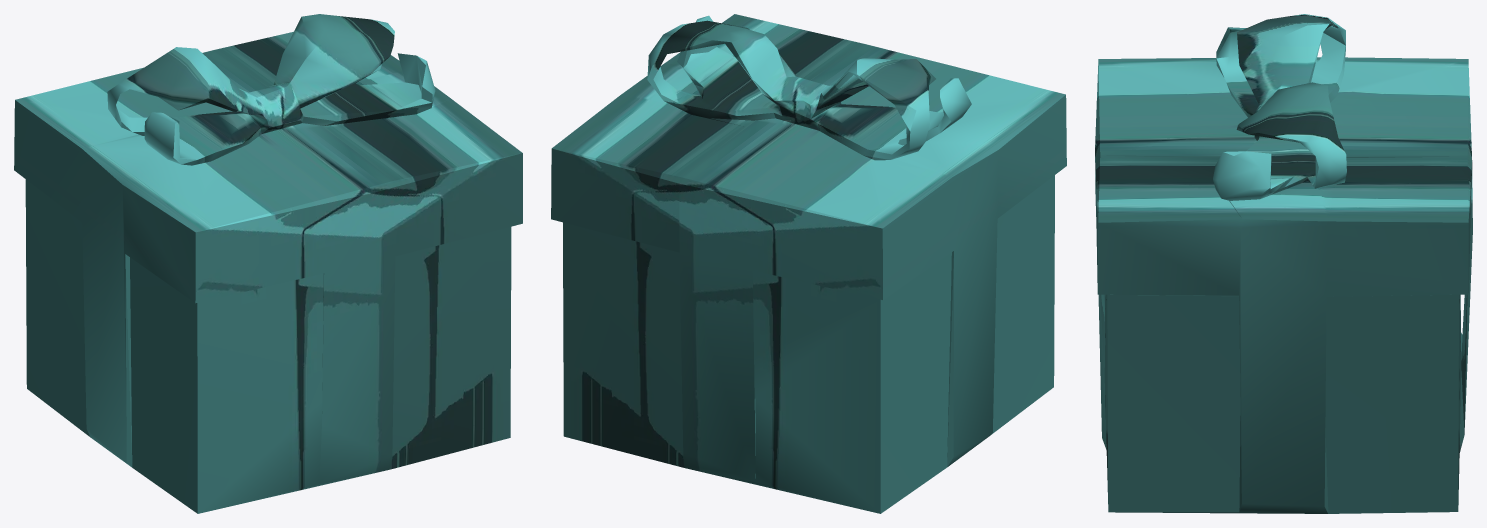
3 renders of one model, left to right at view 1: azimuth 30°, elevation 25°; view 2: azimuth 150°, elevation 25°; view 3: azimuth 270°, elevation 25°, orthographic. The views are drawn at different scales.
Parts seen in each view (by area): view 1: Decor_gift_box_display_c_teal; view 2: Decor_gift_box_display_c_teal; view 3: Decor_gift_box_display_c_teal.
Part boxes in pixels (bbox=[...]): Decor_gift_box_display_c_teal: bbox=[14, 14, 522, 513]; Decor_gift_box_display_c_teal: bbox=[551, 14, 1066, 513]; Decor_gift_box_display_c_teal: bbox=[1095, 14, 1472, 513].
Bounding box in the file's own units: 1.12 × 1.2 × 1.08.
1 material, 1 textured.
